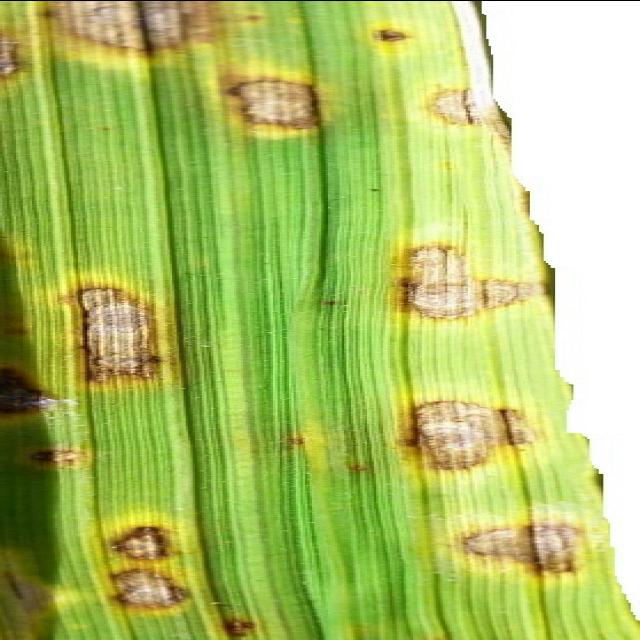Unhealthy: (0, 0, 272, 92), (49, 276, 204, 393), (378, 239, 556, 325), (385, 394, 557, 472), (90, 516, 201, 616), (208, 63, 336, 140), (434, 520, 608, 576), (404, 79, 513, 148), (0, 361, 77, 424), (358, 18, 430, 55), (11, 446, 108, 469), (209, 614, 265, 640), (0, 306, 42, 339), (0, 236, 40, 268)
